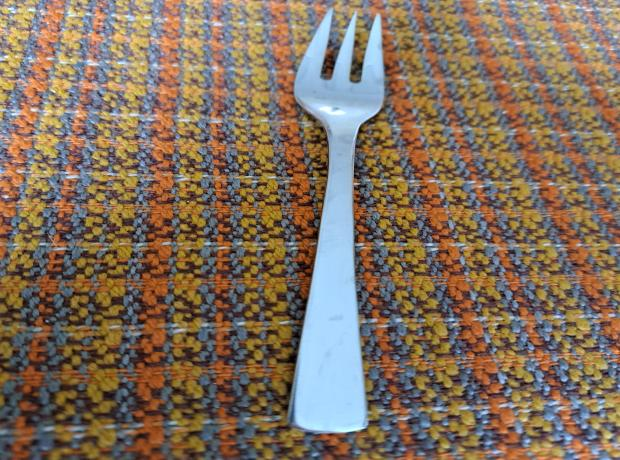metal: (289, 7, 391, 433)
